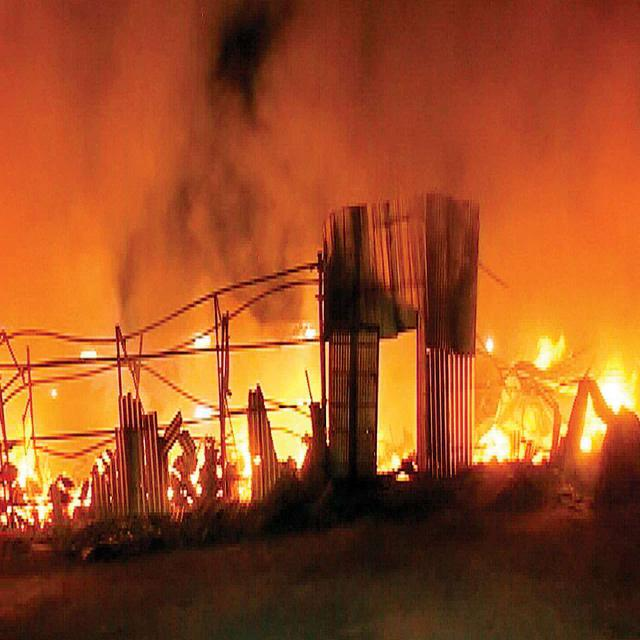fire: (472, 324, 640, 471), (0, 416, 52, 527), (230, 421, 250, 498), (290, 413, 310, 482), (381, 444, 405, 476)
